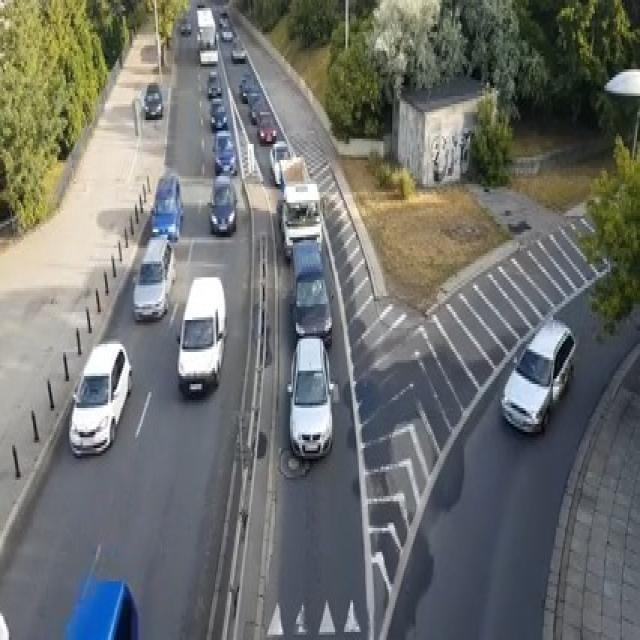car: (500, 314, 576, 434), (68, 341, 132, 456), (176, 275, 227, 397), (286, 336, 334, 459), (288, 240, 332, 344), (63, 576, 138, 637), (130, 232, 176, 320), (280, 181, 322, 259), (150, 170, 183, 242), (207, 173, 236, 235), (212, 131, 237, 176), (269, 139, 290, 184), (140, 83, 162, 117), (256, 112, 276, 144), (209, 98, 227, 130), (195, 6, 215, 30), (249, 96, 266, 123), (197, 24, 215, 48), (206, 69, 221, 96), (198, 45, 218, 64), (230, 40, 246, 61), (242, 83, 260, 101), (180, 18, 191, 34), (218, 10, 228, 27), (221, 27, 233, 40)
